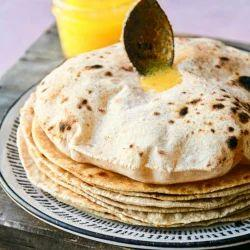roti phulka: (24, 29, 250, 250)
